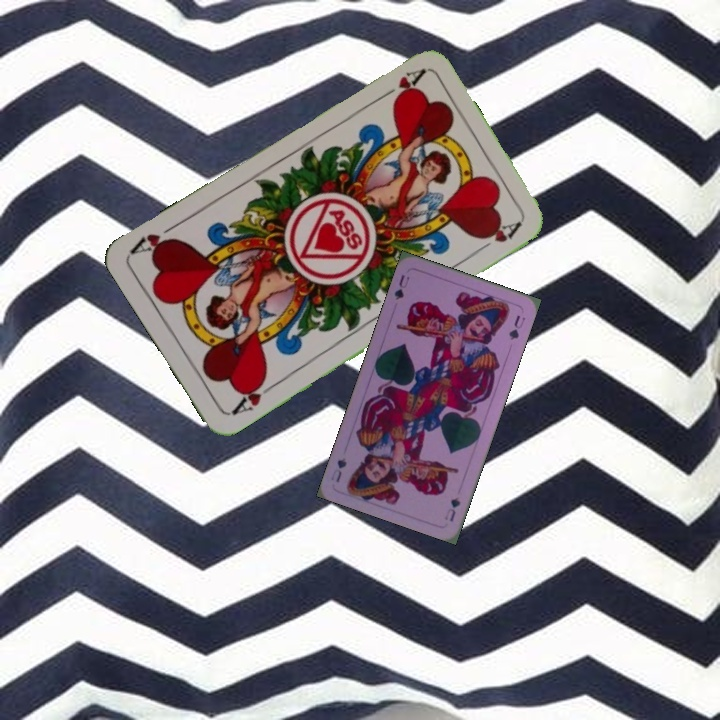GU: (390, 271, 412, 303), (441, 493, 463, 524)
HA: (227, 373, 280, 418), (372, 65, 427, 105)
